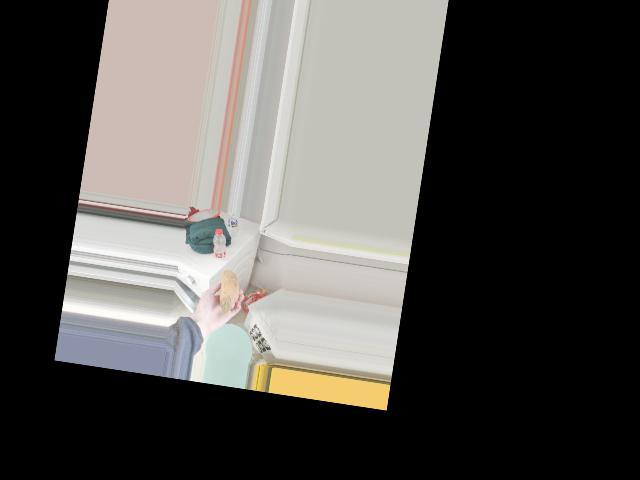sweet_potato: (217, 259, 242, 309)
